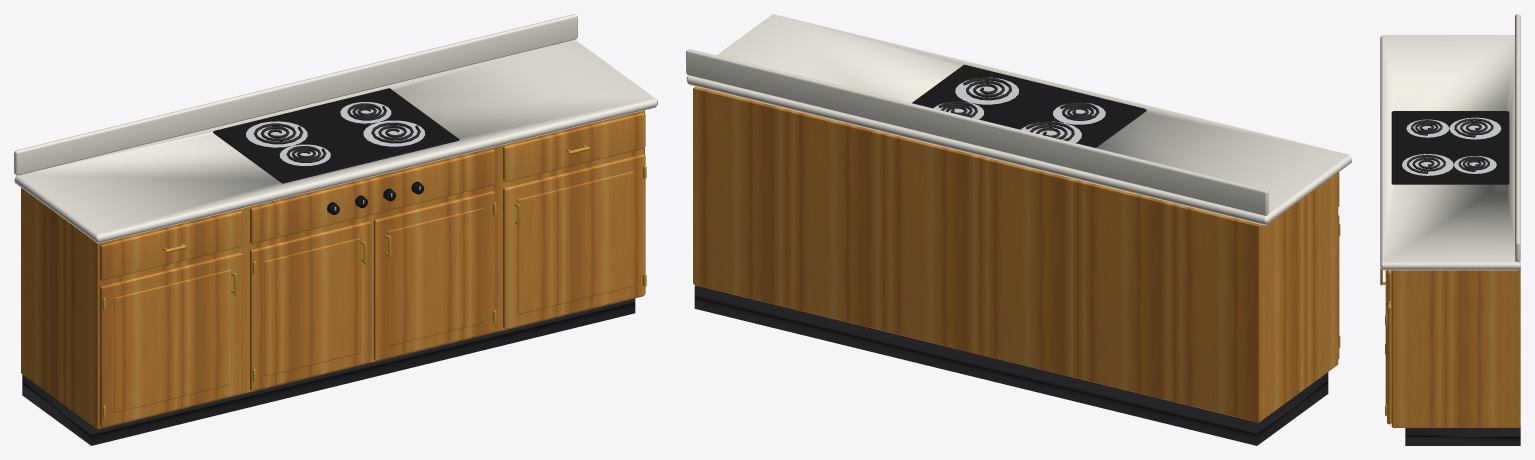
Rendered from kitchen_counter_stove.glb.
3 renders of one model, left to right at view 1: azimuth 30°, elevation 25°; view 2: azimuth 150°, elevation 25°; view 3: azimuth 270°, elevation 25°, orthographic. The views are drawn at different scales.
Parts seen in each view (by area): view 1: model; view 2: model; view 3: model.
Part boxes in pixels (bbox=[...]): model: bbox=[14, 14, 657, 445]; model: bbox=[686, 14, 1351, 445]; model: bbox=[1380, 14, 1520, 445].
Size of the model in its own units: 2.4 by 1.01 by 0.62.
7 materials, 1 textured.
